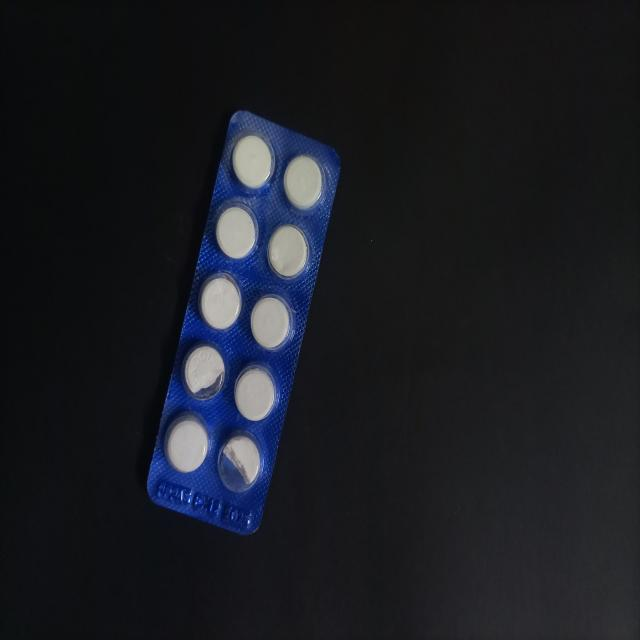defect: (215, 430, 265, 496), (180, 340, 228, 403)
